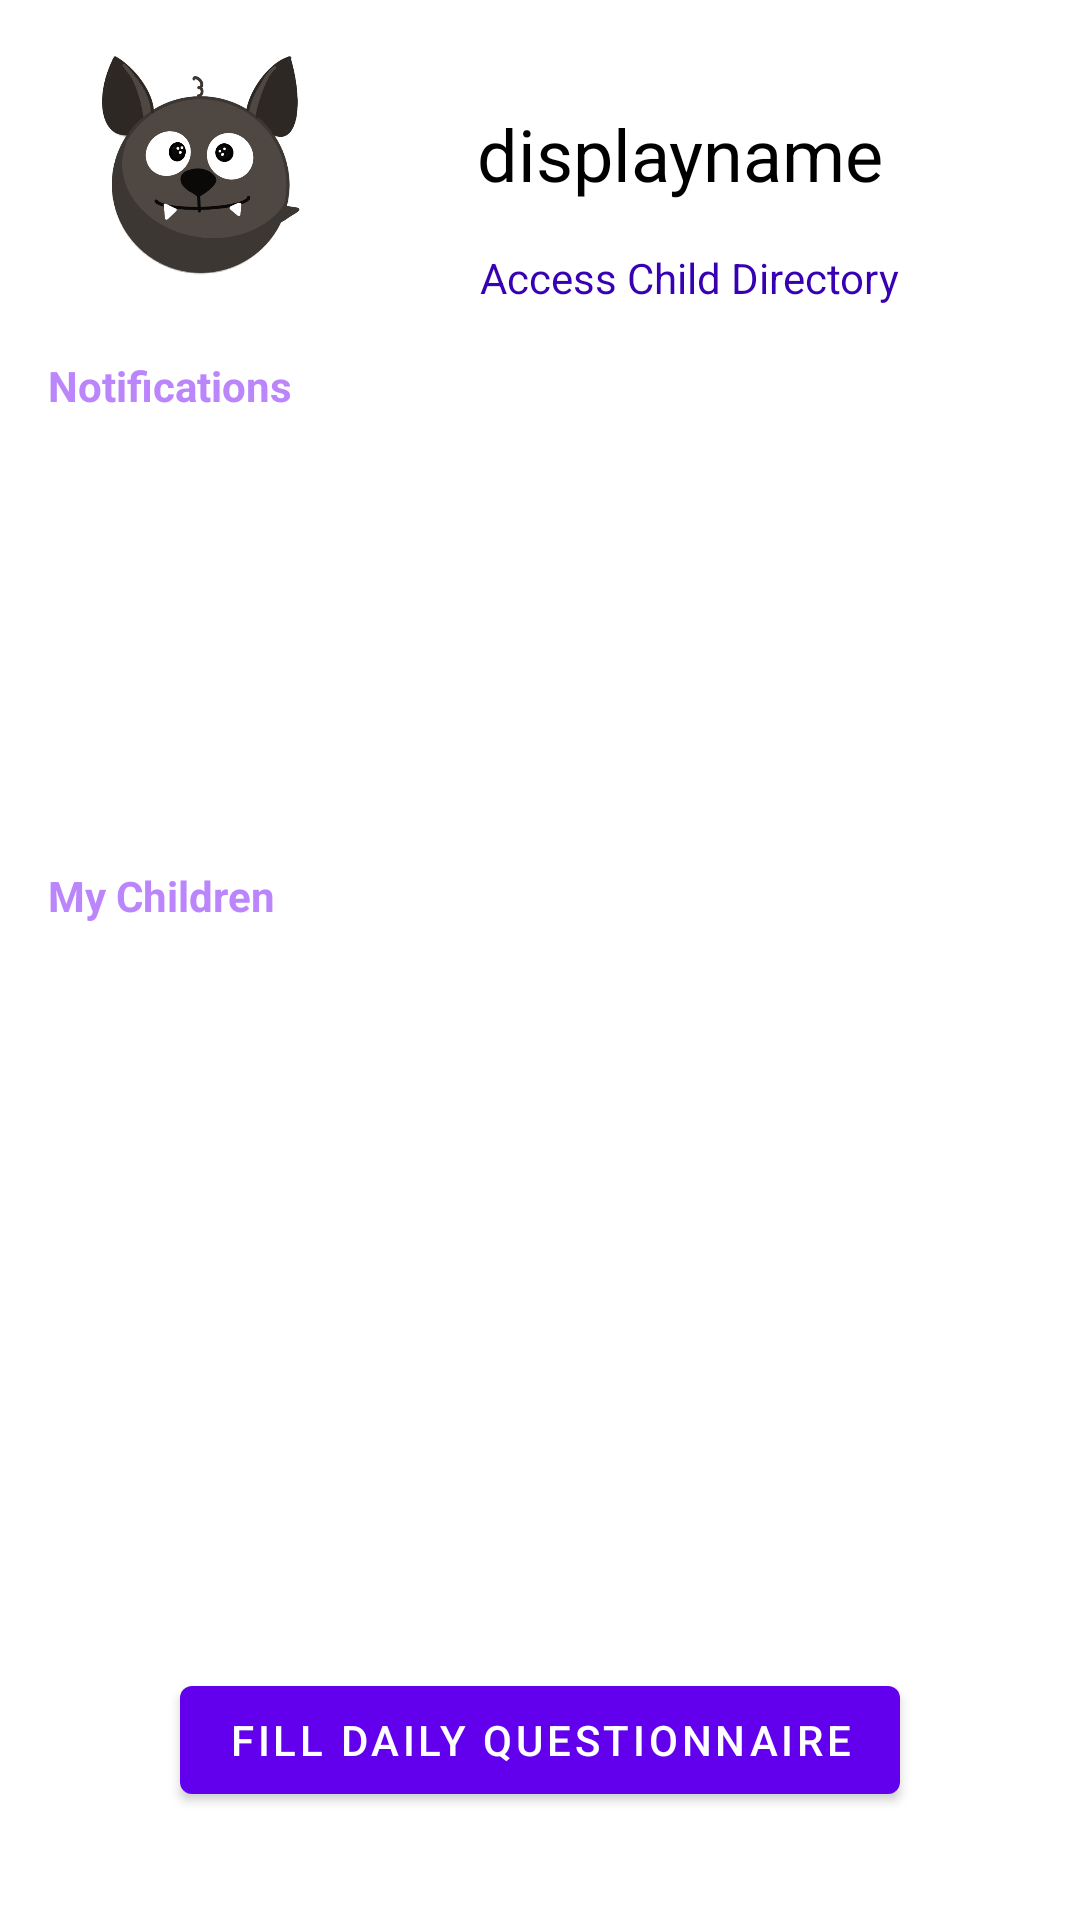

Icons on this 1080w x 1920h Android screen, each with the point to tap as (x,y):
animal bat: (201,165)
